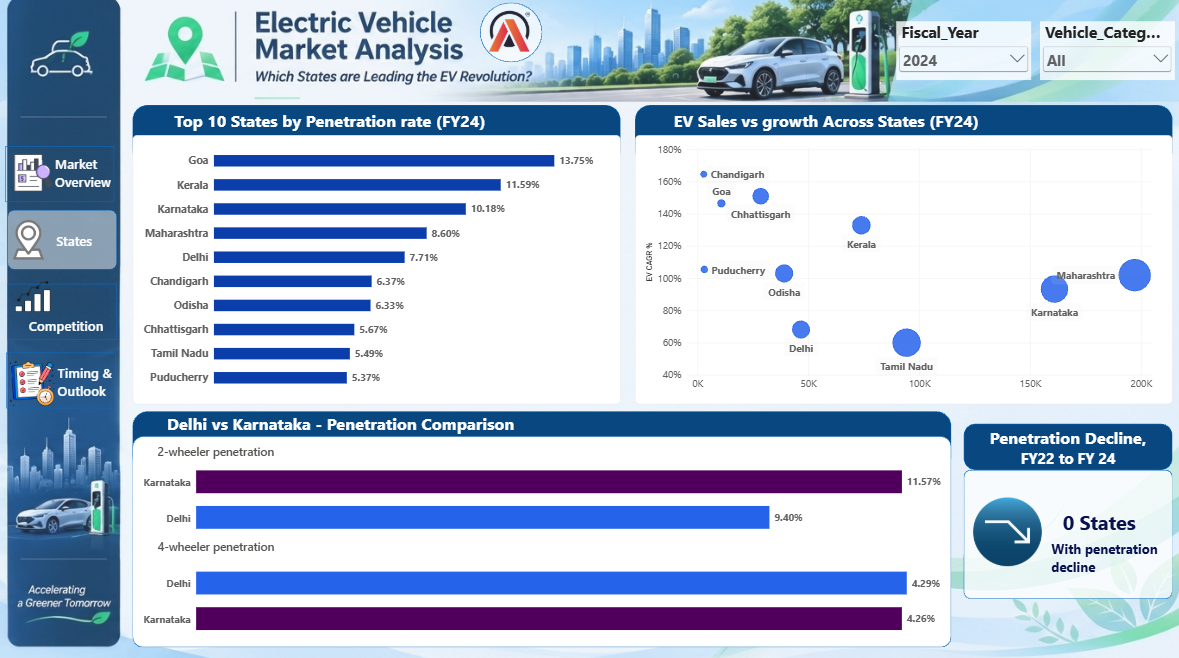

Layout of this report page (visuals, bound fields, positions):
{"tool":"powerbi","page":{"name":"Page 3","canvas":[1920,1080],"ordinal":2},"visuals":[{"type":"clusteredBarChart","title":"Top States By Penetration Rate","fields":{"Category":["sales_by_state.state"],"Y":["key_measures.Penetration fy24"]},"box":[80.3,88.5,858.3,500.2],"z":0},{"type":"scatterChart","fields":{"Category":["sales_by_state.state"],"Size":["Sum(sales_by_state.total_vehicles_sold)"],"X":["key_measures.EV SALES FY24"],"Y":["key_measures.EV CAGR %"]},"box":[983.9,92.6,893.3,496.1],"z":1000},{"type":"slicer","fields":{"Values":["dim_date.fiscal_year"]},"box":[1319.9,0,250.2,91.7],"z":2000},{"type":"slicer","fields":{"Values":["sales_by_makers.vehicle_category"]},"box":[1610.9,2.2,250,91],"z":3000},{"type":"cardVisual","title":"Penetration decline, FY22 to FY24","fields":{"Data":["key_measures.States With Penetration Decline"]},"box":[1104.3,617,608.7,415.2],"z":4000},{"type":"clusteredBarChart","title":"penetration rate 2w","fields":{"Category":["sales_by_state.state"],"Y":["key_measures.Penetration fy24"]},"box":[80.9,617,857.4,240.4],"z":5000},{"type":"clusteredBarChart","title":"penetration rate 4w","fields":{"Category":["sales_by_state.state"],"Y":["key_measures.Penetration fy24"]},"box":[80.9,825.5,857.4,240.4],"z":6000}]}

Visuals, with their boxes on the page's 1920x1080 design canvas (x1, y1, x2, y2). These are canvas units, not pixel positions in the 1179x658 screenshot, which may show the page scaled, cropped or inside an application window:
"Top States By Penetration Rate" clusteredBarChart: Rect(80, 88, 939, 589)
scatterChart - sales_by_state.state x Sum(sales_by_state.total_vehicles_sold): Rect(984, 93, 1877, 589)
slicer - dim_date.fiscal_year: Rect(1320, 0, 1570, 92)
slicer - sales_by_makers.vehicle_category: Rect(1611, 2, 1861, 93)
"Penetration decline, FY22 to FY24" cardVisual: Rect(1104, 617, 1713, 1032)
"penetration rate 2w" clusteredBarChart: Rect(81, 617, 938, 857)
"penetration rate 4w" clusteredBarChart: Rect(81, 826, 938, 1066)
